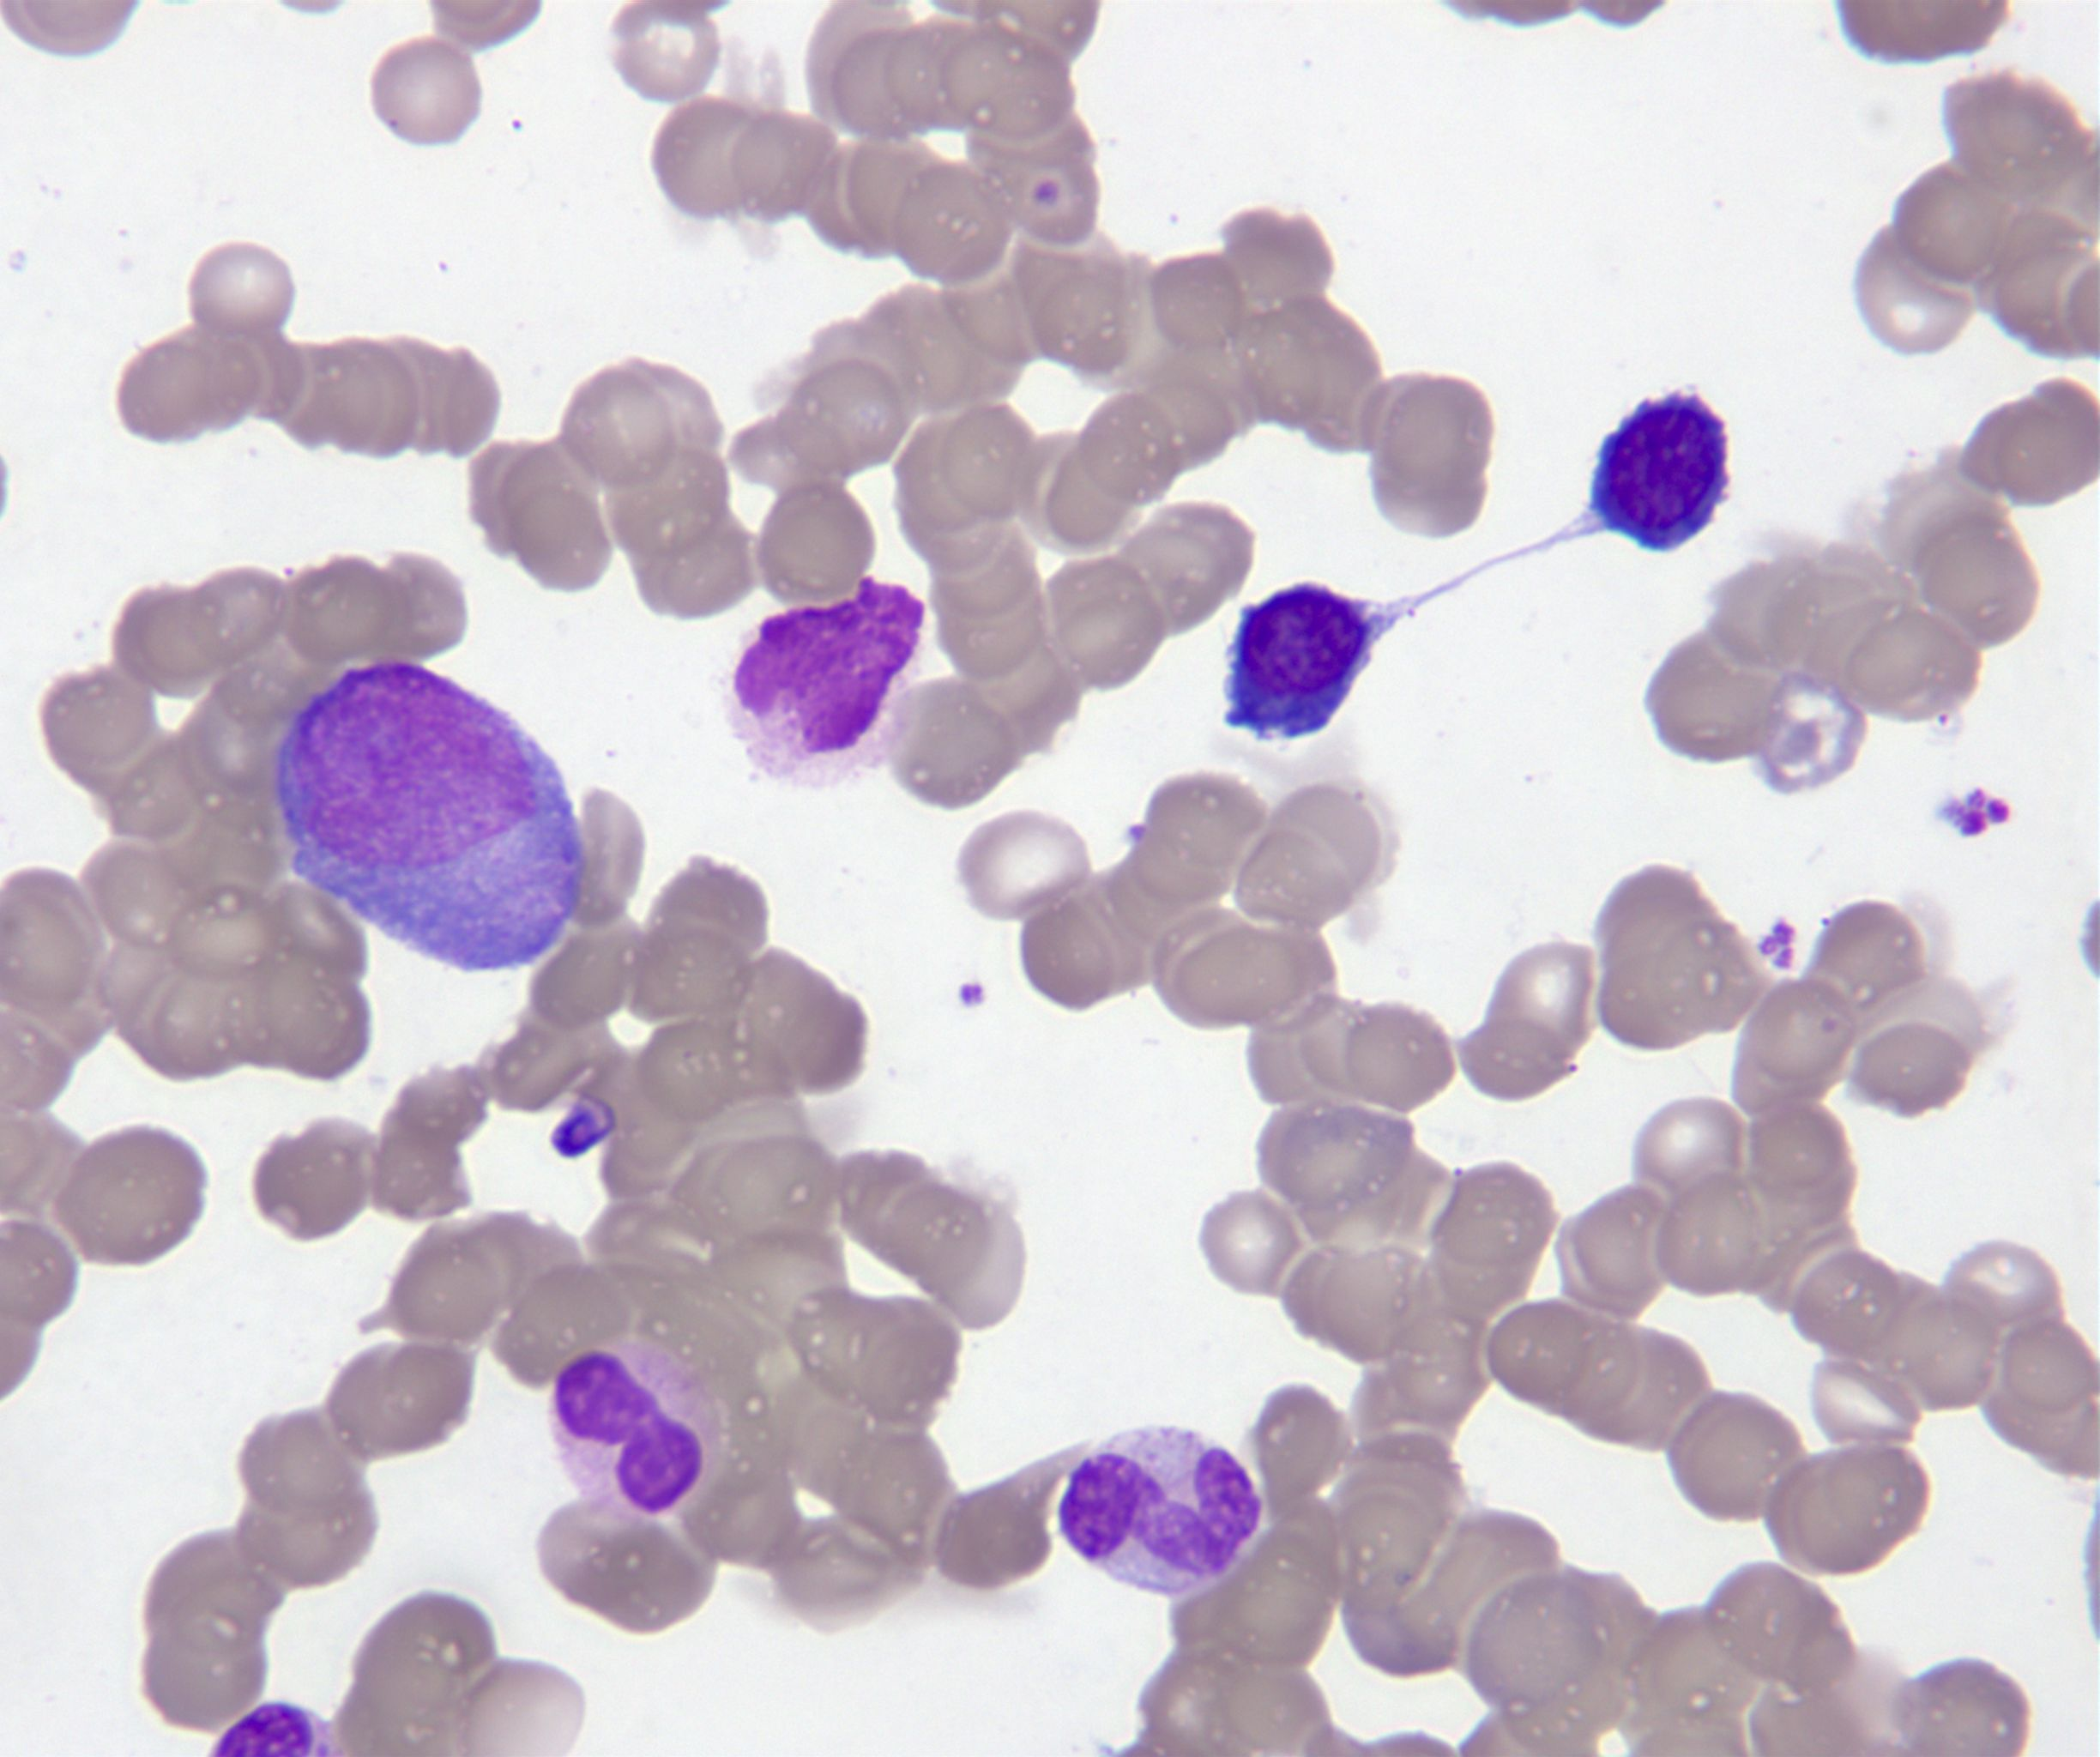23: (1216, 579, 1399, 745), (1587, 386, 1734, 557)
3: (272, 656, 591, 977)
4: (539, 1333, 722, 1525)
42: (1052, 1419, 1270, 1600)
x: (719, 569, 935, 790)
